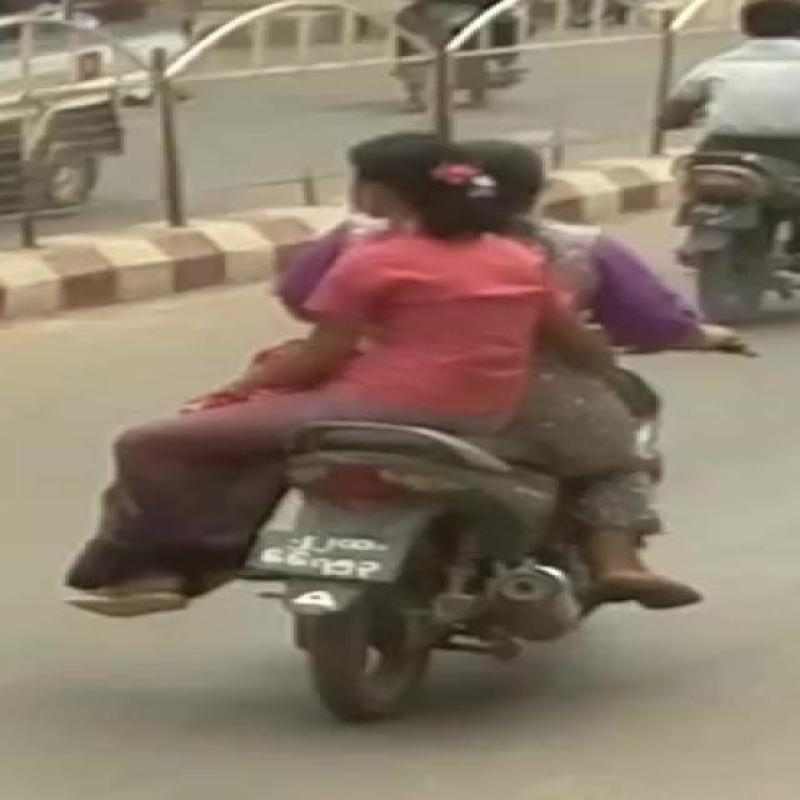nohelmet: (333, 122, 542, 246)
